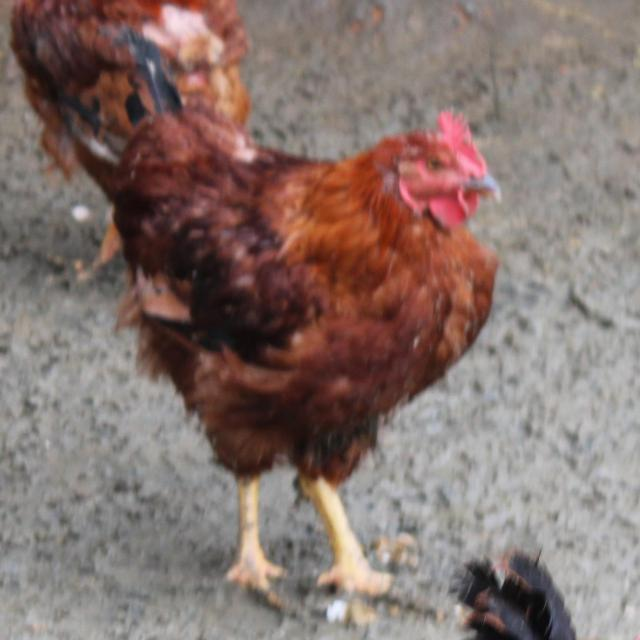cook: (102, 103, 503, 487), (143, 65, 177, 112)
